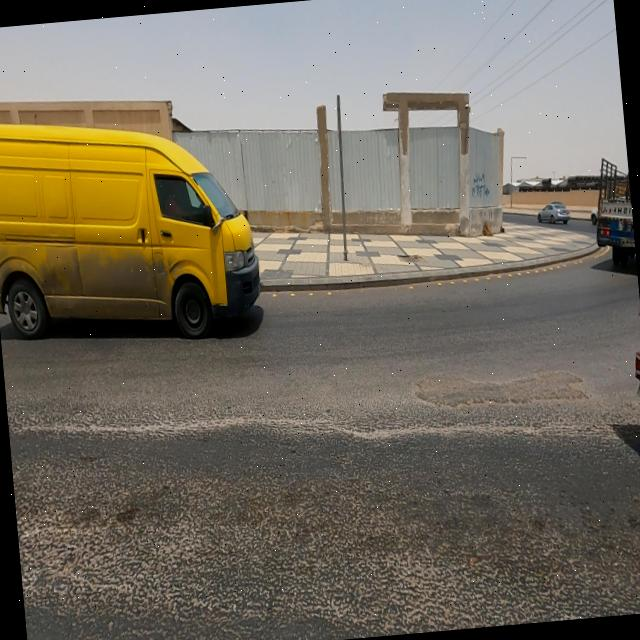Graffiti: (472, 171, 491, 201)
